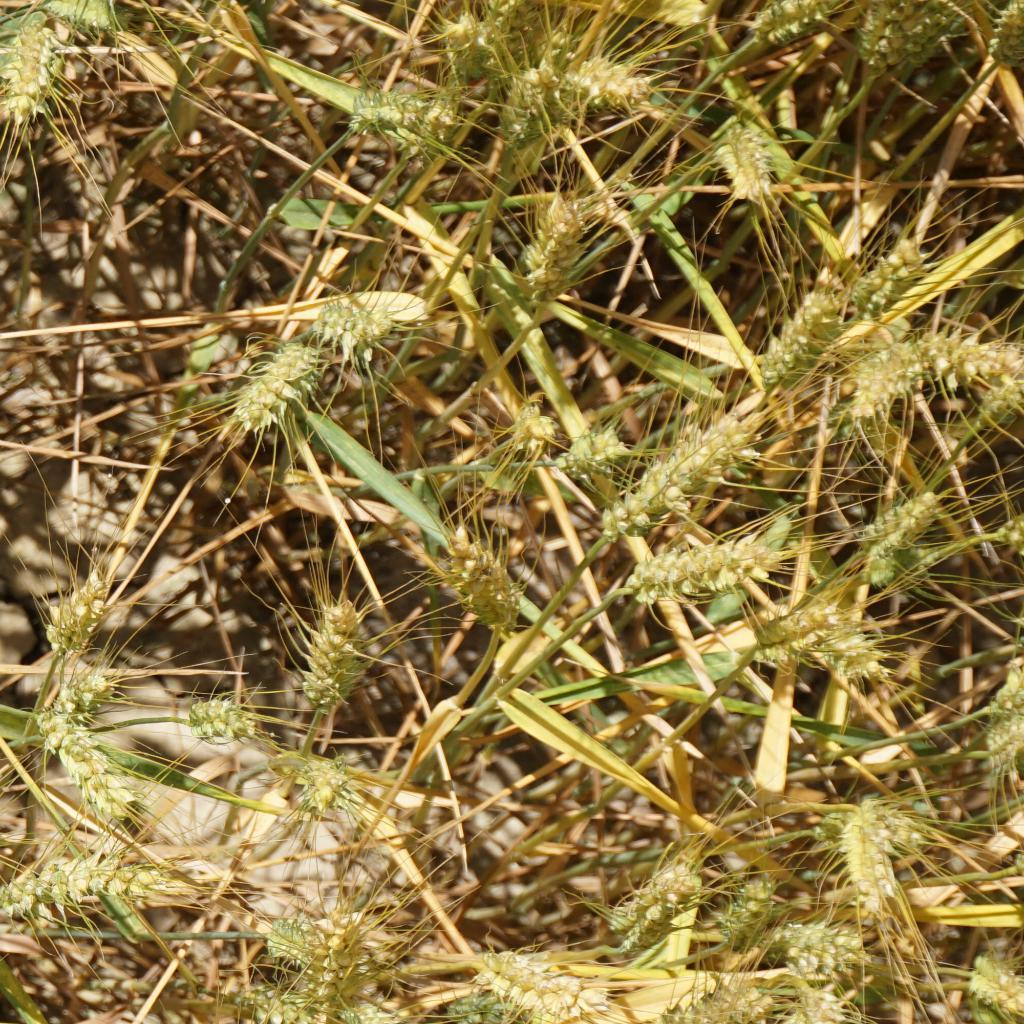0-0: (0, 832, 183, 927), (607, 842, 714, 973), (26, 705, 137, 826), (632, 524, 763, 615), (470, 944, 598, 1024), (299, 591, 373, 719), (444, 540, 528, 650), (640, 417, 724, 526), (751, 276, 835, 379), (0, 30, 66, 145), (307, 296, 406, 363), (858, 0, 947, 70), (525, 192, 582, 301), (38, 570, 110, 653), (558, 52, 652, 115), (808, 622, 889, 694), (316, 894, 361, 1022), (713, 118, 777, 207), (854, 340, 926, 418), (251, 338, 314, 424), (177, 688, 261, 752), (280, 745, 349, 822), (775, 923, 862, 983), (927, 317, 1009, 380), (743, 588, 826, 650), (649, 977, 758, 1024), (828, 799, 926, 849), (715, 862, 769, 945), (846, 819, 892, 912), (494, 63, 546, 145), (560, 424, 626, 486), (57, 671, 124, 730), (865, 495, 939, 548), (432, 1, 484, 76), (759, 0, 822, 61), (347, 82, 412, 140), (504, 393, 552, 457), (265, 923, 316, 983), (796, 980, 865, 1024), (236, 978, 296, 1024), (427, 989, 505, 1024), (974, 948, 1024, 1001), (859, 248, 900, 310), (982, 4, 1024, 61), (414, 91, 454, 150), (329, 996, 404, 1024), (989, 712, 1024, 771), (992, 664, 1024, 716)
